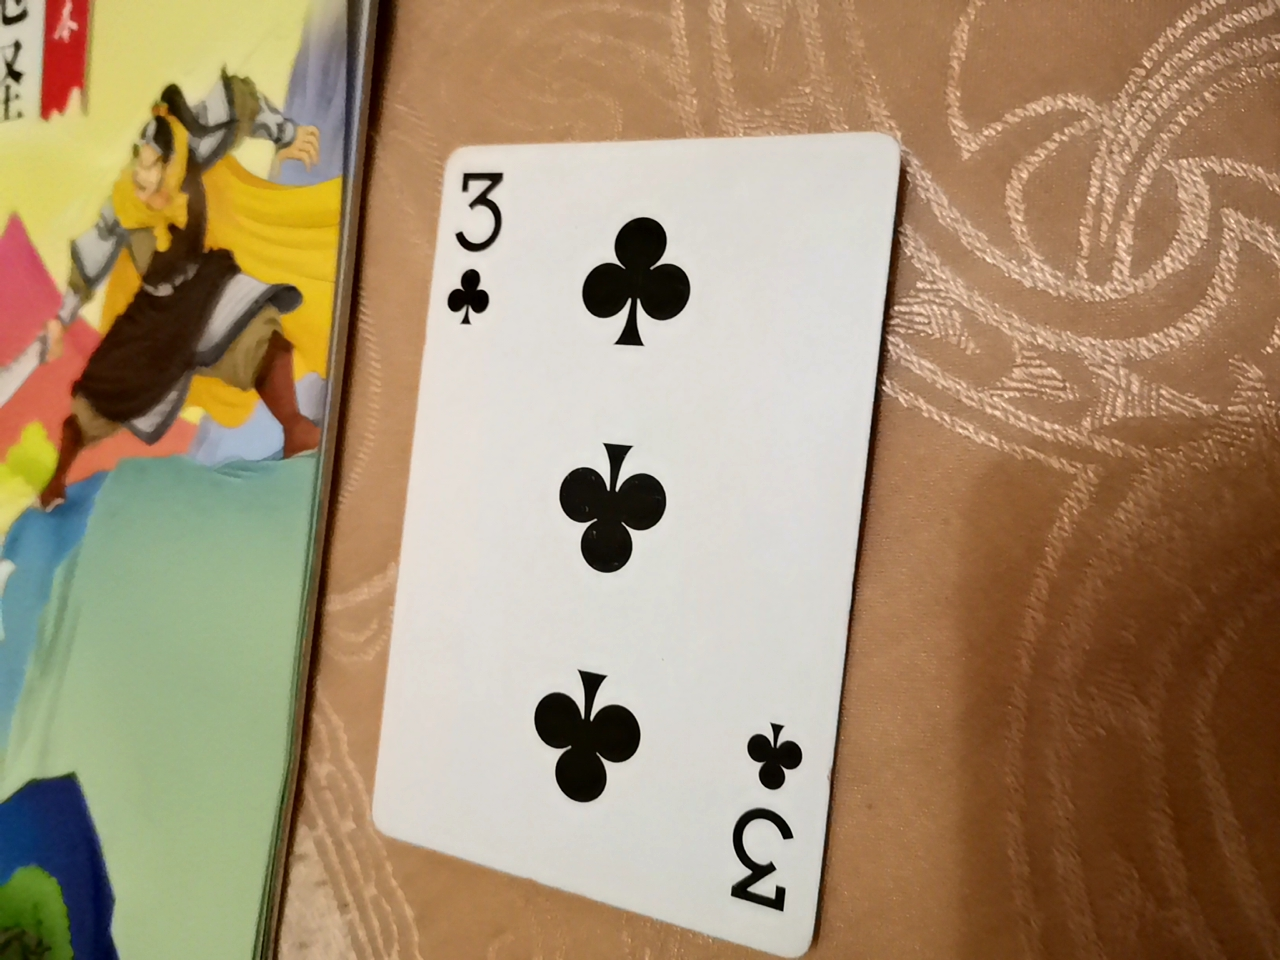mh 3: (334, 109, 860, 942)
